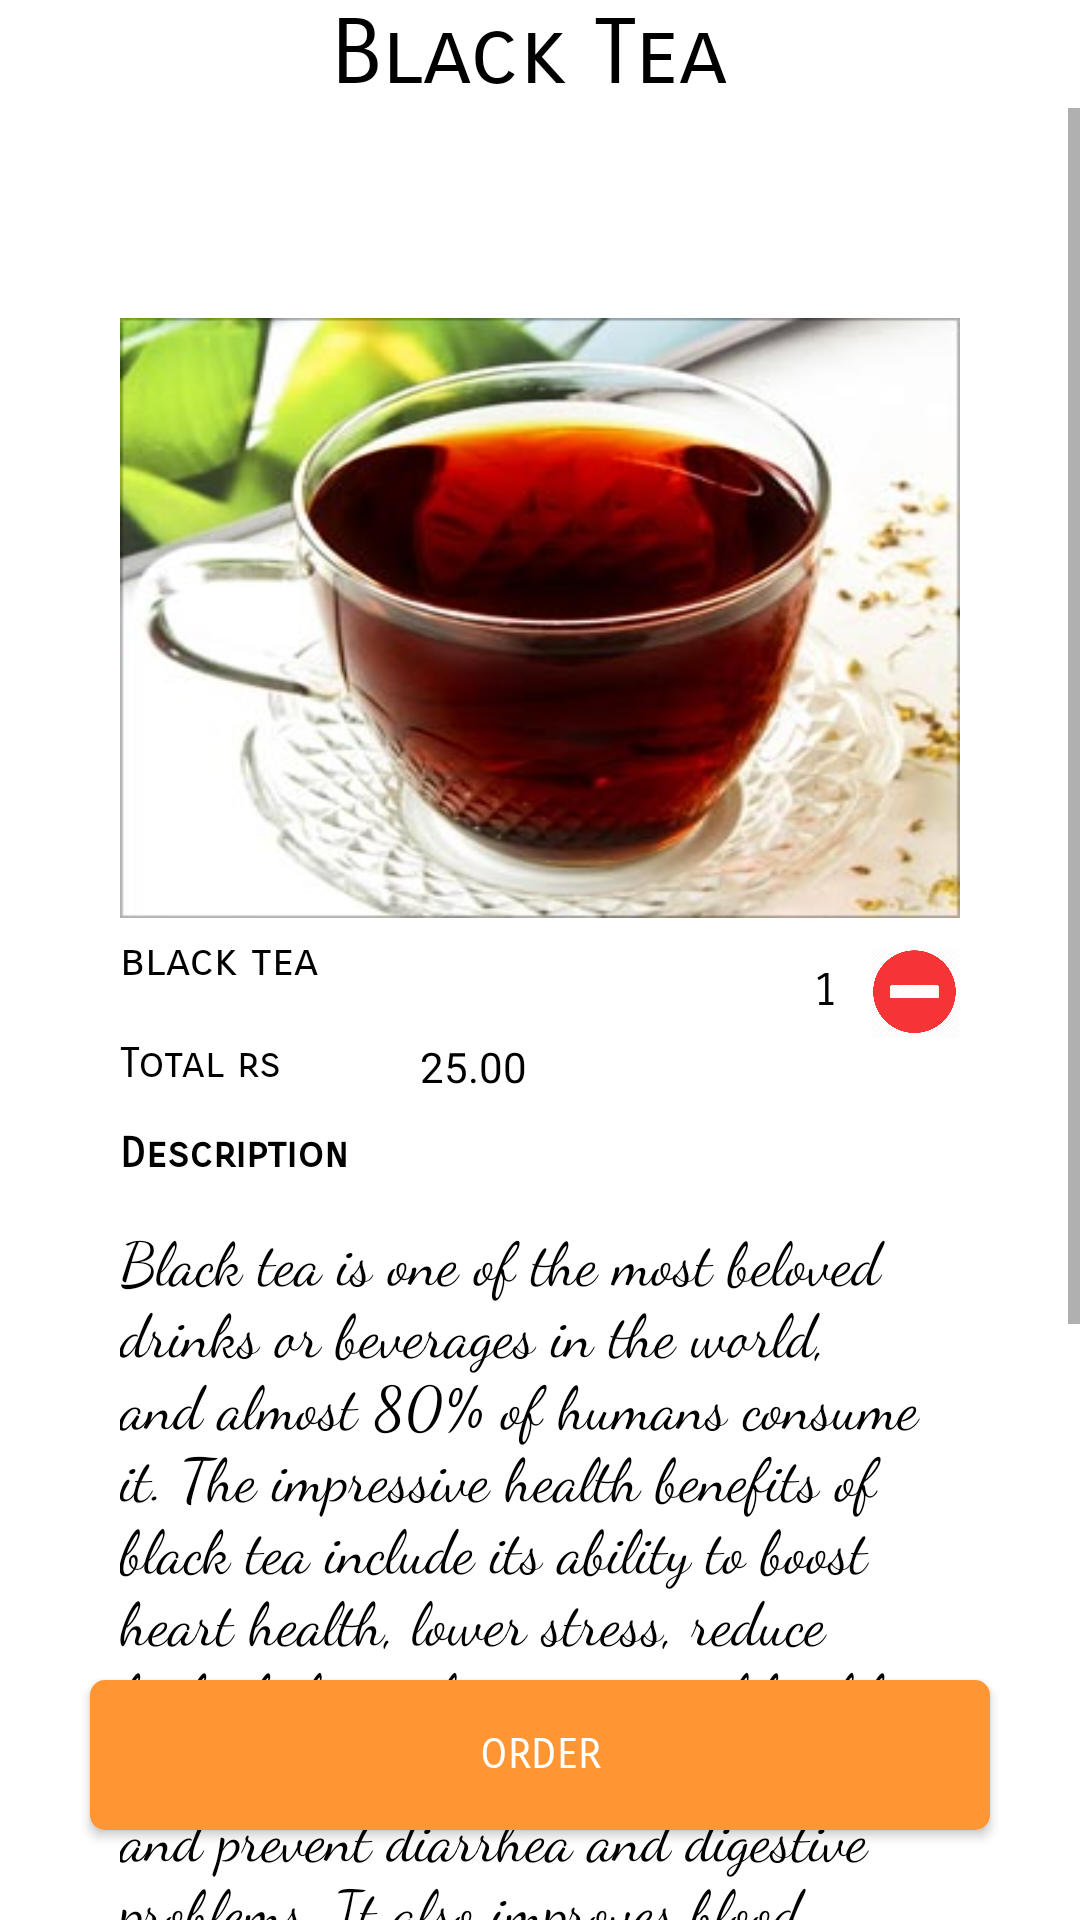

Point at icon controls on the screen. Image size 1080x1920, points as (x=x, y=y).
minus: (x=914, y=991)
